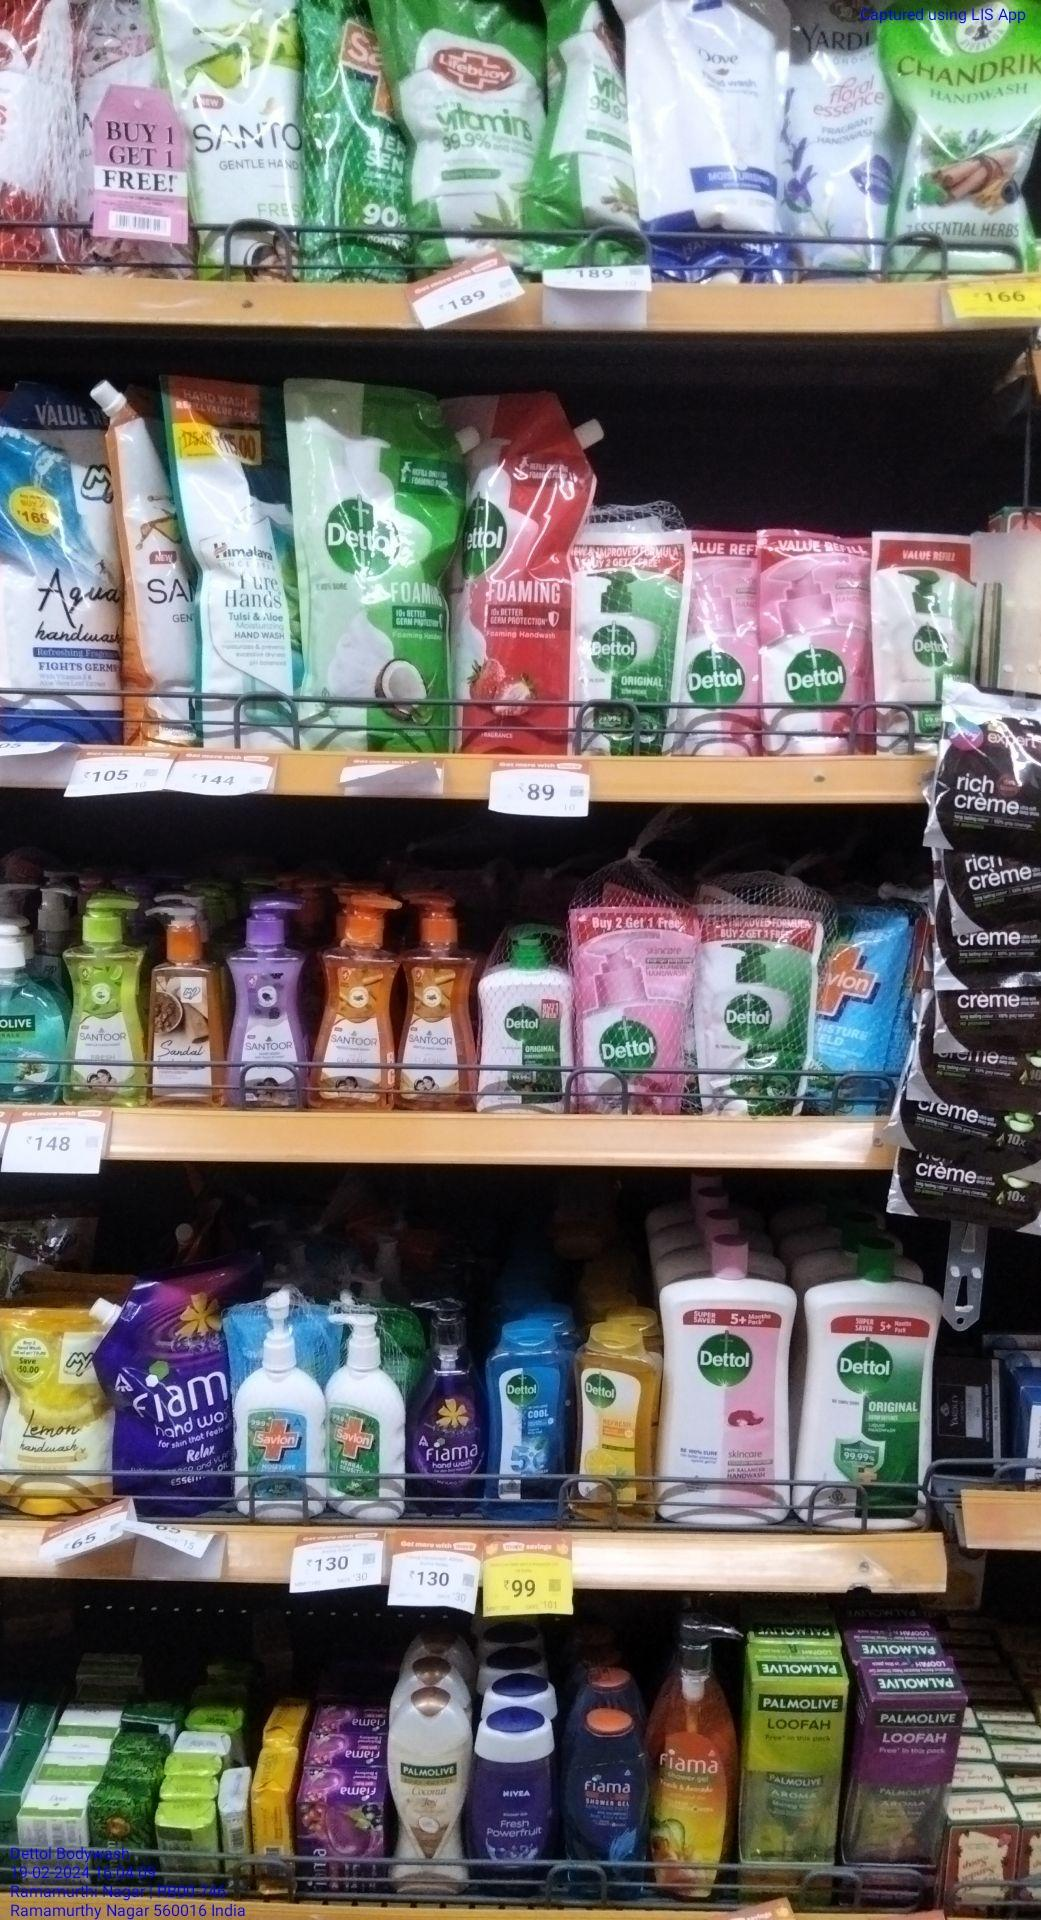Dettol_Bodywash_Cool: (481, 1318, 567, 1512)
Dettol_Bodywash_Refresh: (574, 1318, 656, 1520)
Nivea_Shower_Gel_Fresh_Powerfruit_250ML: (468, 1707, 551, 1893)
Palmolive_Coconut_Joy_Exfoliating_Body_Wash_250ML: (387, 1687, 465, 1896)
